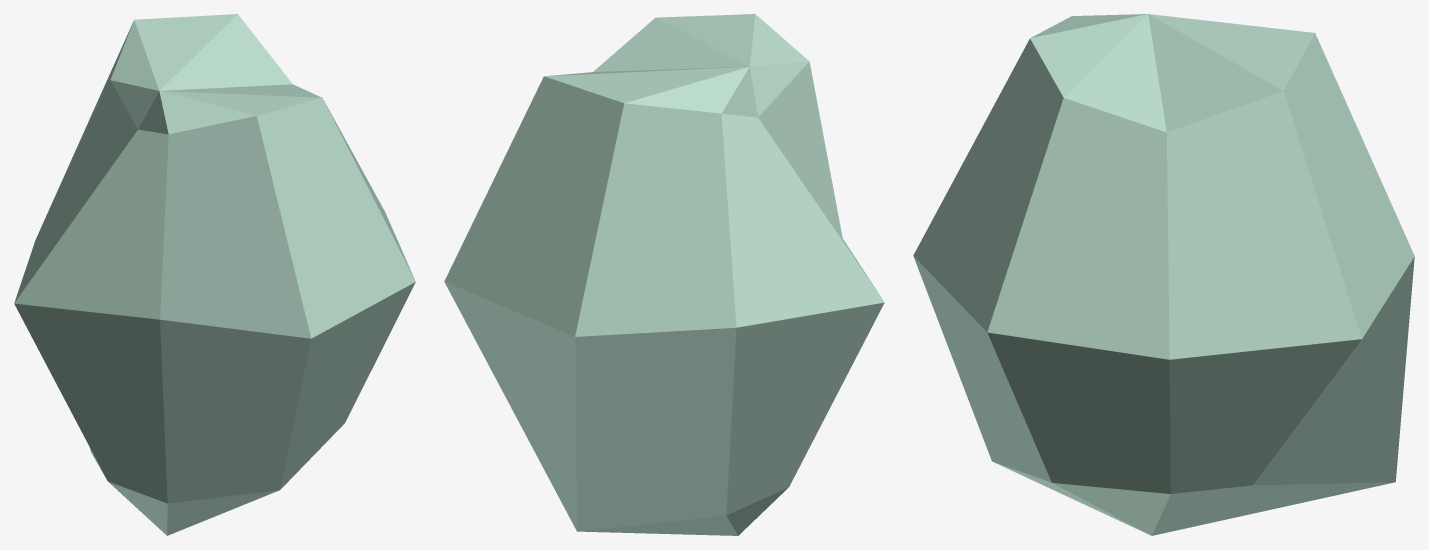
The model's file is Rock1.FBX.
3 views of the same model, side by side, from view 1: azimuth 30°, elevation 25°; view 2: azimuth 150°, elevation 25°; view 3: azimuth 270°, elevation 25° (orthographic). The views are drawn at different scales.
Parts seen in each view (by area): view 1: Sphere001; view 2: Sphere001; view 3: Sphere001.
Part boxes in pixels (<box>): Sphere001: <box>14,14,415,535</box>; Sphere001: <box>444,14,884,535</box>; Sphere001: <box>913,14,1414,535</box>.
Bounding box in the file's own units: 44.97 × 52.56 × 45.57.
